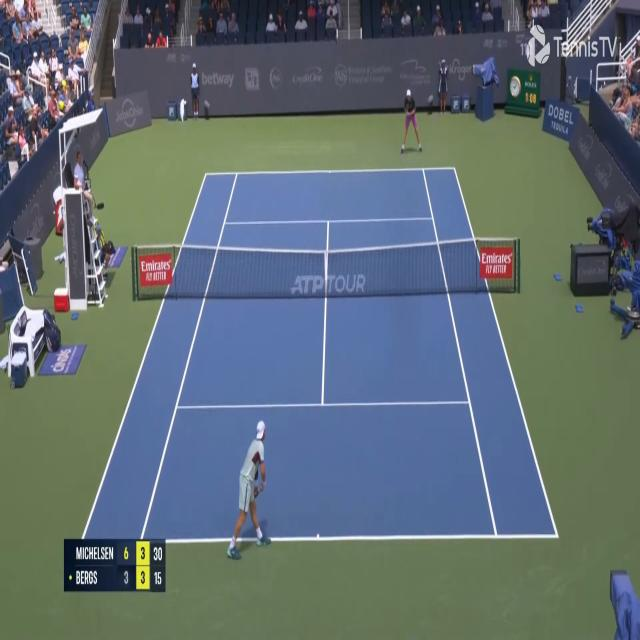tennis-player: (225, 416, 272, 565), (400, 87, 423, 157)
